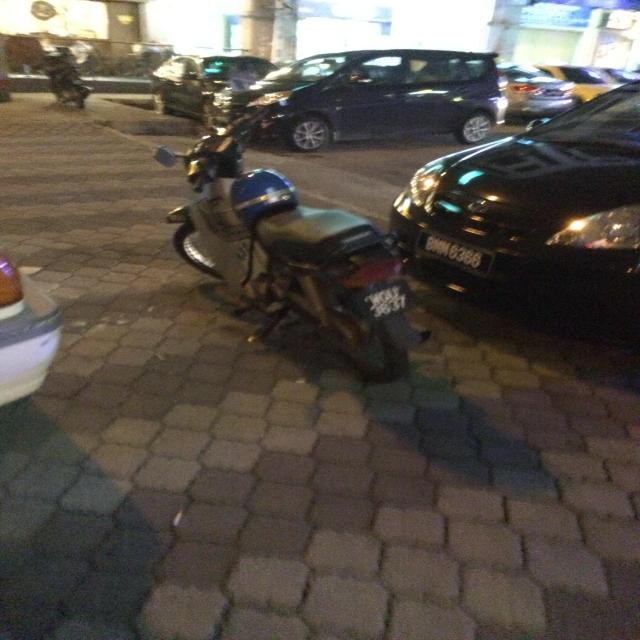Motorbike: (155, 101, 426, 380)
